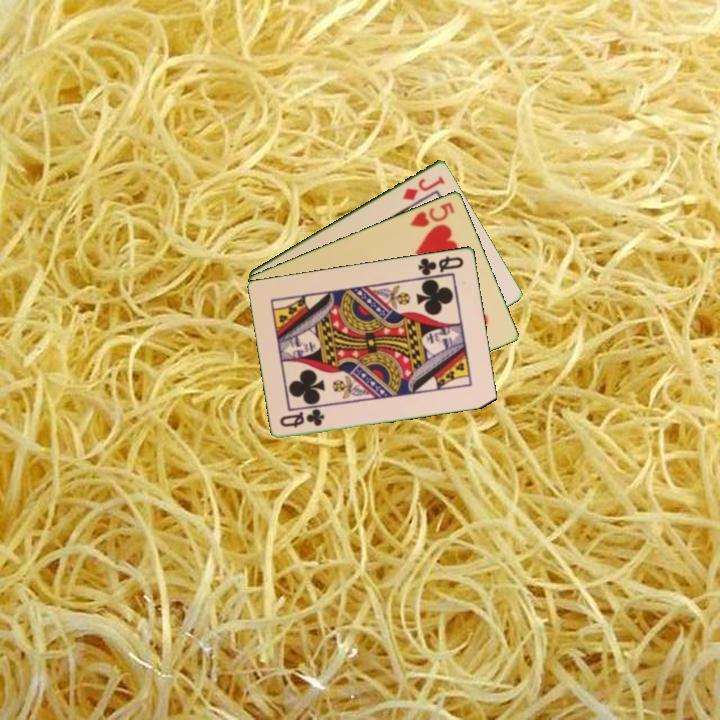5h: (406, 198, 458, 230)
Jd: (399, 172, 448, 203)
Qc: (415, 252, 467, 280), (276, 406, 328, 430)
